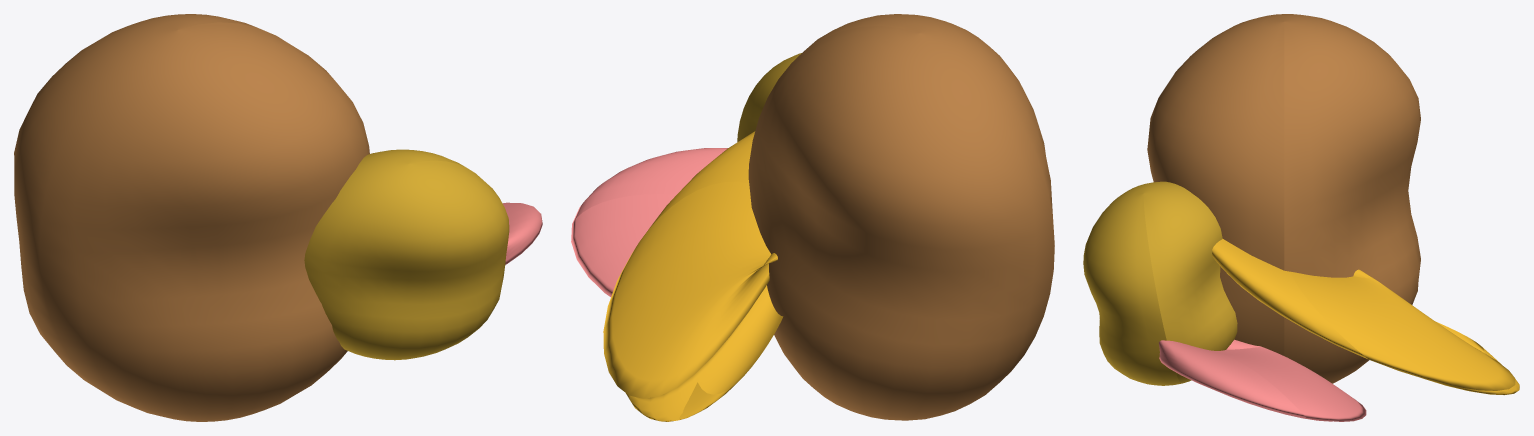
File: digestive.glb
The picture shows the model from 3 angles, left to right: view 1: azimuth 30°, elevation 25°; view 2: azimuth 150°, elevation 25°; view 3: azimuth 270°, elevation 25°; orthographic projection. The views are drawn at different scales.
Visible parts, largest first — view 1: Mesh_Ovine_Rumen, Mesh_Ovine_ReticuloOmasum, Mesh_Ovine_Abomasum; view 2: Mesh_Ovine_Rumen, Mesh_Ovine_Intestinum, Mesh_Ovine_Abomasum, Mesh_Ovine_ReticuloOmasum; view 3: Mesh_Ovine_Rumen, Mesh_Ovine_ReticuloOmasum, Mesh_Ovine_Intestinum, Mesh_Ovine_Abomasum.
Part boxes in pixels (left/top/right/bottom): Mesh_Ovine_Rumen: left=14, top=14, right=369, bottom=421; Mesh_Ovine_ReticuloOmasum: left=304, top=149, right=509, bottom=360; Mesh_Ovine_Abomasum: left=502, top=202, right=542, bottom=264; Mesh_Ovine_Rumen: left=748, top=14, right=1054, bottom=420; Mesh_Ovine_Intestinum: left=603, top=131, right=783, bottom=421; Mesh_Ovine_Abomasum: left=571, top=148, right=727, bottom=297; Mesh_Ovine_ReticuloOmasum: left=737, top=53, right=801, bottom=141; Mesh_Ovine_Rumen: left=1147, top=14, right=1420, bottom=383; Mesh_Ovine_ReticuloOmasum: left=1083, top=181, right=1237, bottom=385; Mesh_Ovine_Intestinum: left=1212, top=239, right=1519, bottom=395; Mesh_Ovine_Abomasum: left=1158, top=339, right=1366, bottom=421.
Bounding box in the file's own units: 0.7164 × 0.5446 × 0.6151.
